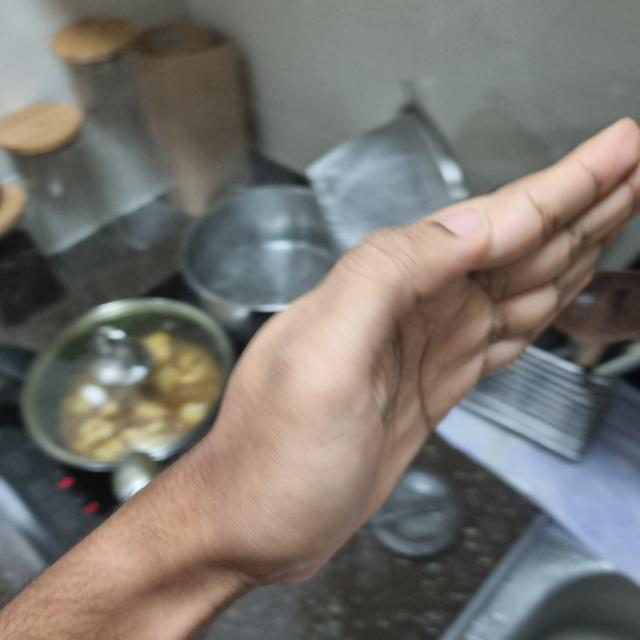Paper: (190, 121, 639, 584)
